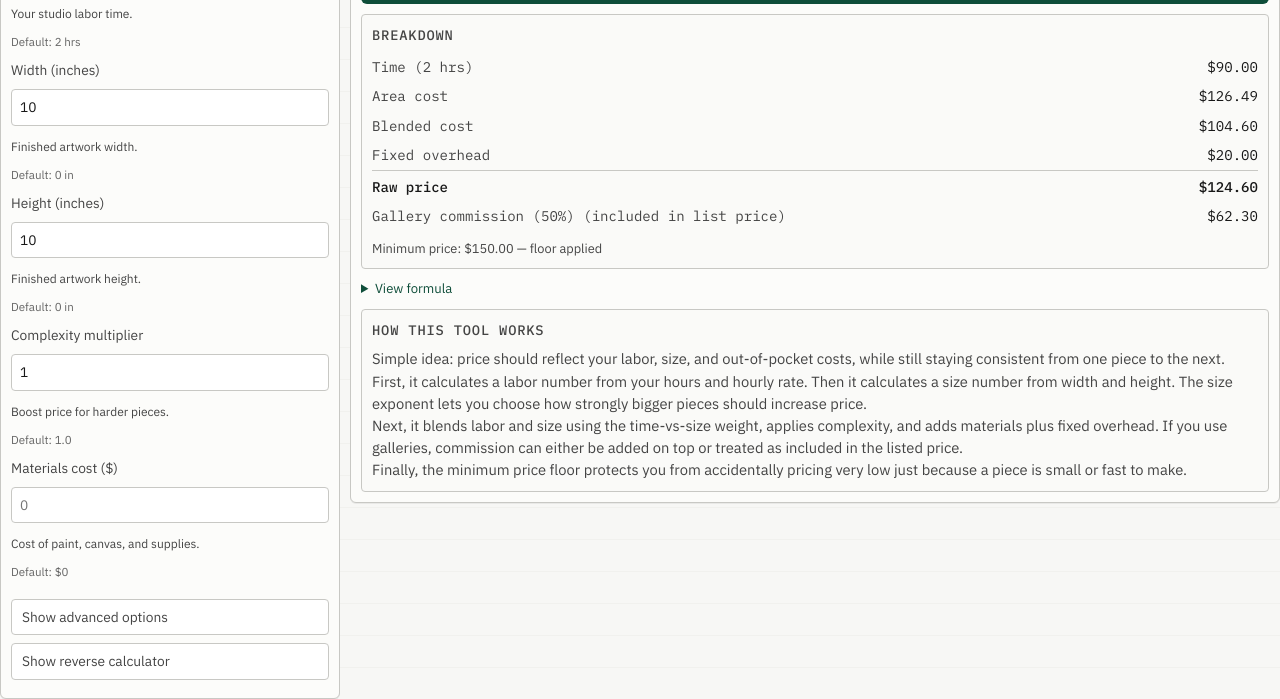
Test: ArtPricingPage › shows the reverse calculator only after toggle
(page scrolled)
Expected: the field labelled "target price" is not shown
Click the button "Show reverse calculator" at {"x": 170, "y": 662}, box [11,643,329,680]
(page scrolled)
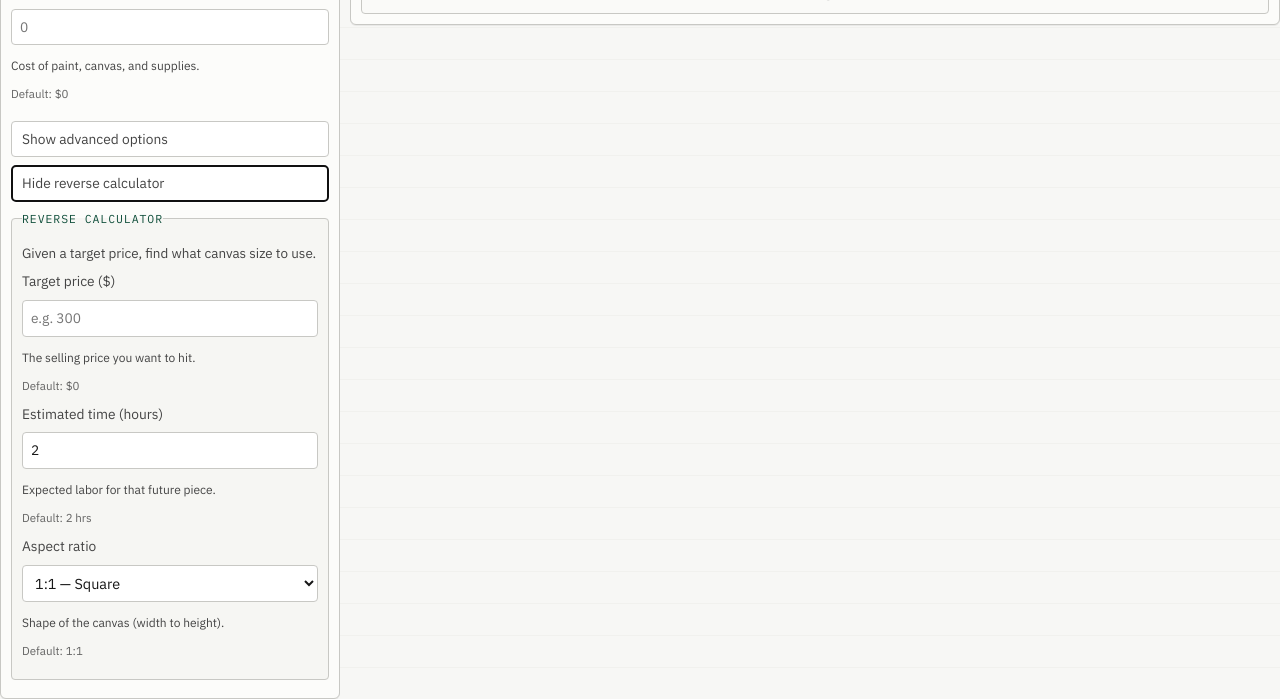
Expected: the number field labelled "Target price" is shown, [22,300,318,336]
